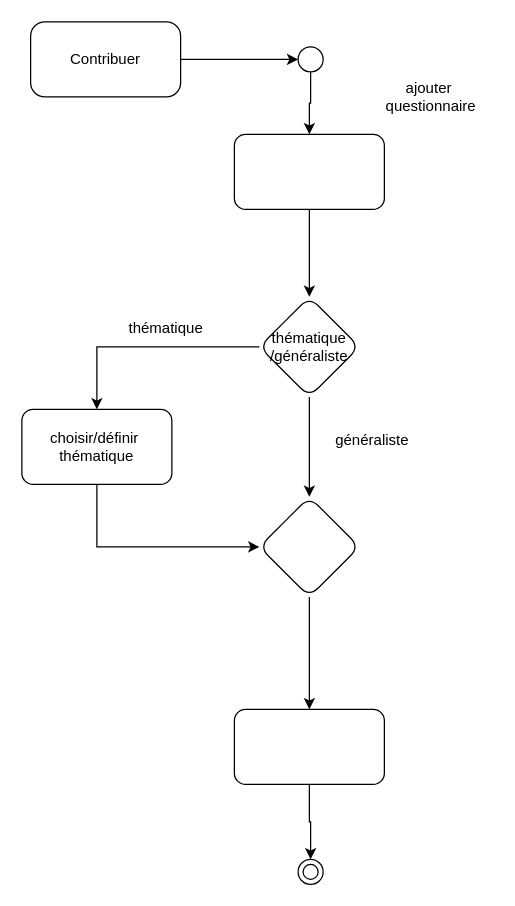
Some shapes in this 515 by 906 pixel diagram are drawn without their labels. Here are the shapes that lost their labels. From the top down, the centre of each, then its label:
point 308,171: tutoriel
point 308,746: téléverser fichier
